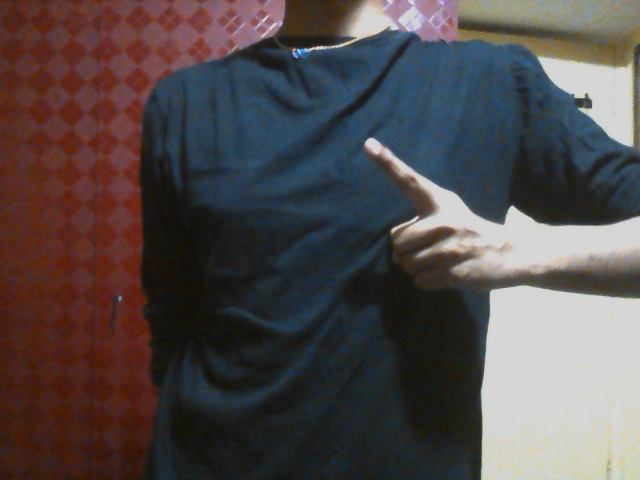I: (360, 135, 494, 298)
